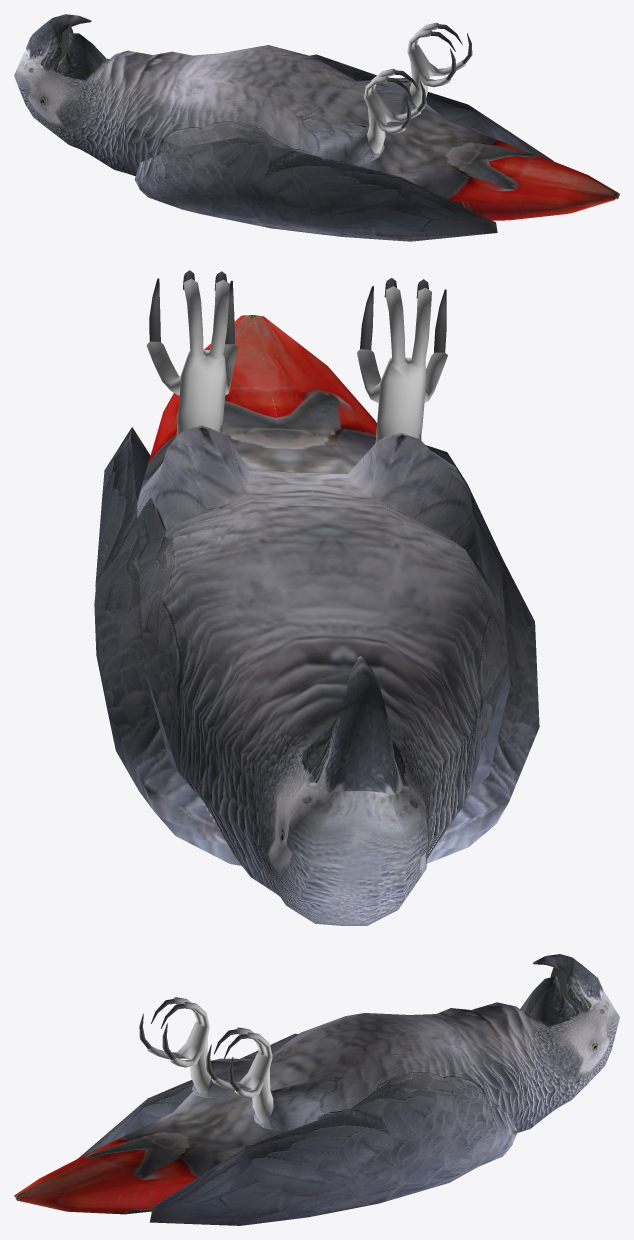
Rendered from parrot.obj.
The picture shows the model from 3 angles, top to bottom: view 1: azimuth 30°, elevation 25°; view 2: azimuth 150°, elevation 25°; view 3: azimuth 270°, elevation 25°; orthographic projection. The views are drawn at different scales.
Visible parts, largest first — view 1: dynamic; view 2: dynamic; view 3: dynamic.
Part boxes in pixels (left/top/right/bottom): dynamic: left=14, top=14, right=619, bottom=241; dynamic: left=94, top=270, right=539, bottom=925; dynamic: left=14, top=954, right=619, bottom=1225.
Size of the model in its own units: 3793 by 2045 by 5284.
1 material, 1 textured.
